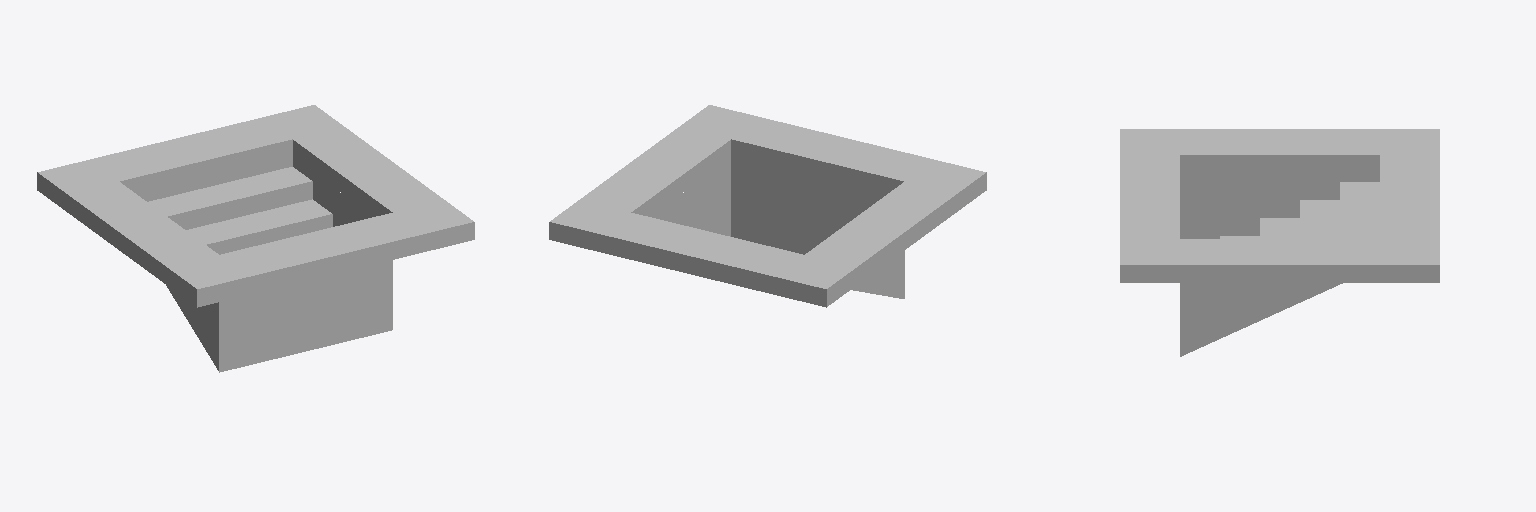
The model's file is stairs_down.obj.
3 views of the same model, side by side, from view 1: azimuth 30°, elevation 25°; view 2: azimuth 150°, elevation 25°; view 3: azimuth 270°, elevation 25° (orthographic).
Parts seen in each view (by area): view 1: StairsUp, Plane; view 2: StairsUp, Plane; view 3: StairsUp.
Part boxes in pixels (x1,y1,x2,y2): StairsUp: (37, 105, 474, 372); Plane: (219, 260, 392, 371); StairsUp: (549, 105, 986, 307); Plane: (731, 141, 903, 254); StairsUp: (1120, 129, 1439, 356).
Size of the model in its own units: 3.2 by 1.3 by 3.2.